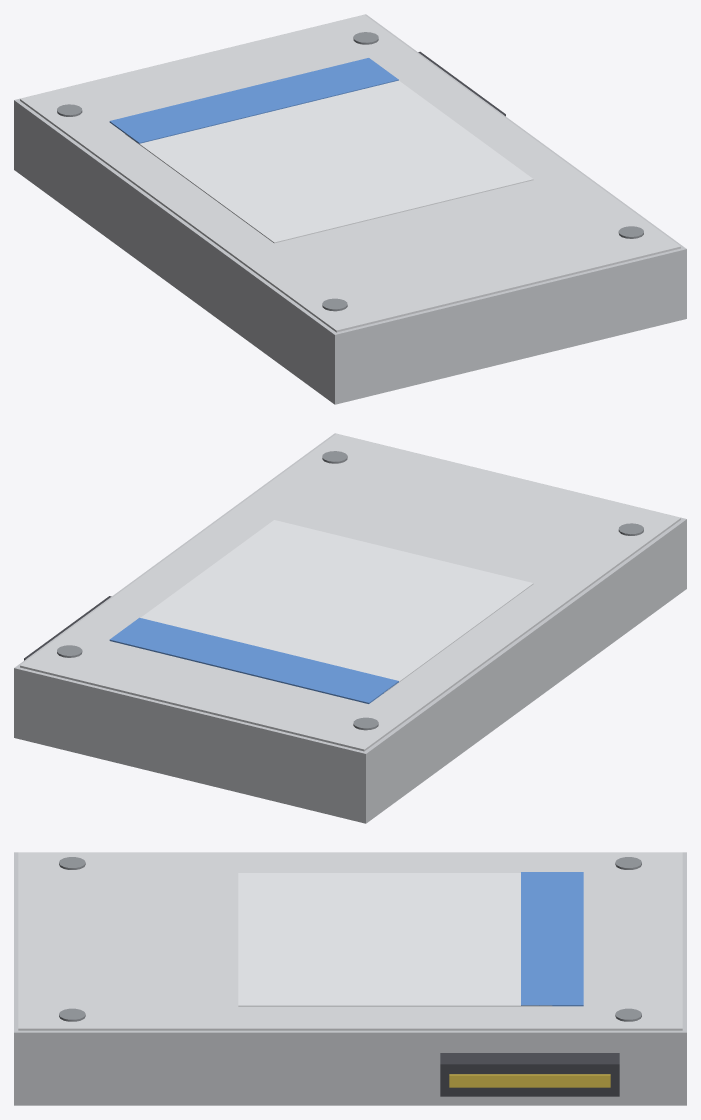
Rendered from hdd.glb.
The picture shows the model from 3 angles, top to bottom: view 1: azimuth 30°, elevation 25°; view 2: azimuth 150°, elevation 25°; view 3: azimuth 270°, elevation 25°; orthographic projection. The views are drawn at different scales.
Visible parts, largest first — view 1: cc9cdd4, caeb2ba, ce9eef6, c2a5fd0, c555a61; view 2: cc9cdd4, caeb2ba, ce9eef6, c2a5fd0, c555a61; view 3: cc9cdd4, caeb2ba, ce9eef6, c2a5fd0, c15161a, cd4a017, c555a61.
Part boxes in pixels (x1,y1,x2,y2): cc9cdd4: (20, 14, 680, 332); caeb2ba: (14, 14, 686, 404); ce9eef6: (124, 80, 533, 243); c2a5fd0: (109, 58, 398, 143); c555a61: (57, 32, 643, 311); cc9cdd4: (20, 433, 680, 751); caeb2ba: (14, 433, 686, 823); ce9eef6: (140, 520, 533, 693); c2a5fd0: (109, 617, 398, 703); c555a61: (57, 451, 643, 730); cc9cdd4: (18, 852, 682, 1030); caeb2ba: (14, 852, 686, 1105); ce9eef6: (238, 873, 552, 1006); c2a5fd0: (521, 872, 583, 1006); c15161a: (440, 1053, 619, 1096); cd4a017: (449, 1074, 610, 1087); c555a61: (59, 857, 641, 1021).
Size of the model in its own units: 102 by 19 by 150.
